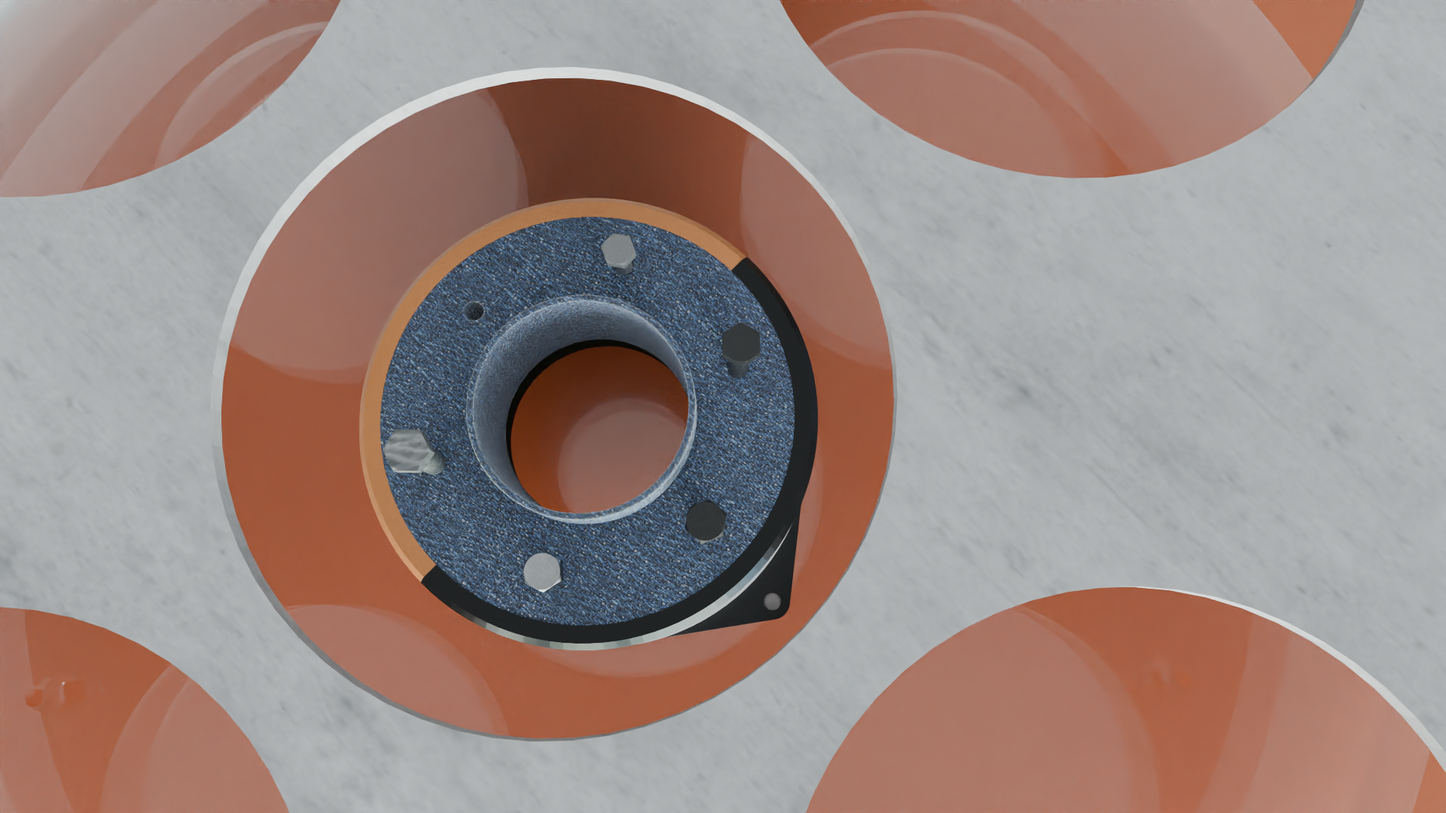bolt: (383, 429, 431, 471), (685, 500, 727, 544), (722, 322, 761, 364), (523, 550, 561, 592), (601, 233, 636, 266)
